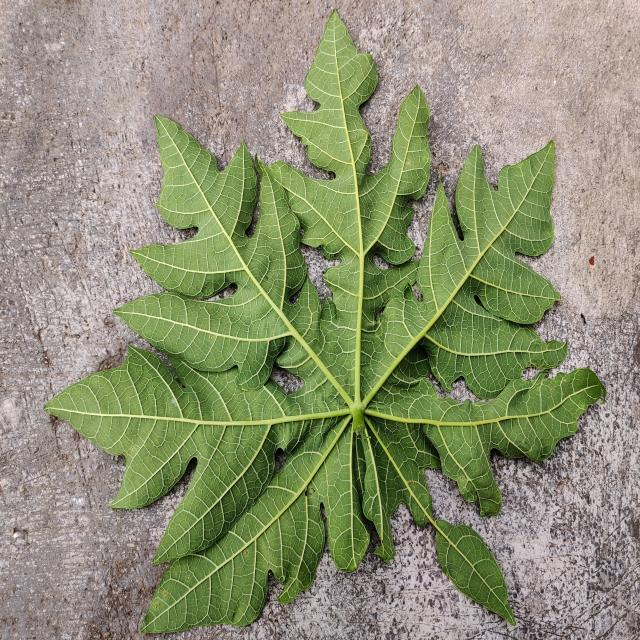papaya: (45, 13, 605, 632)
